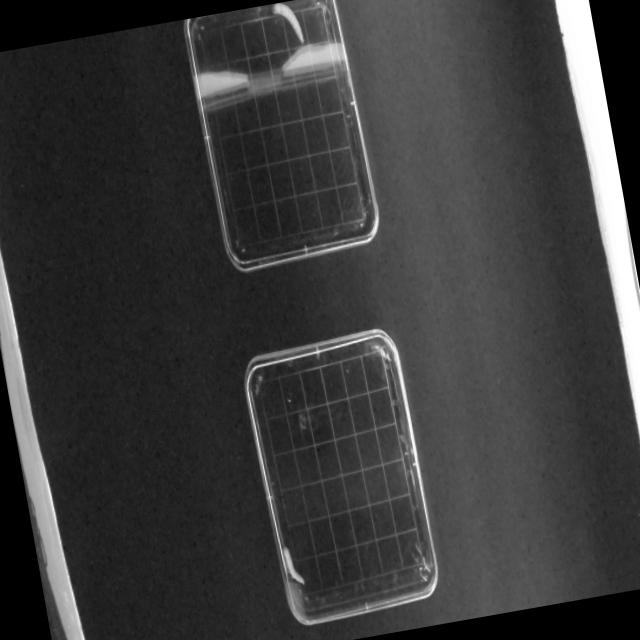larva: (270, 0, 306, 51), (280, 540, 308, 591)
